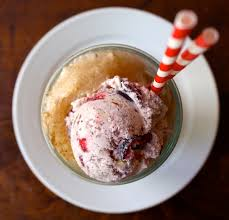ice-cream: (67, 76, 167, 183)
